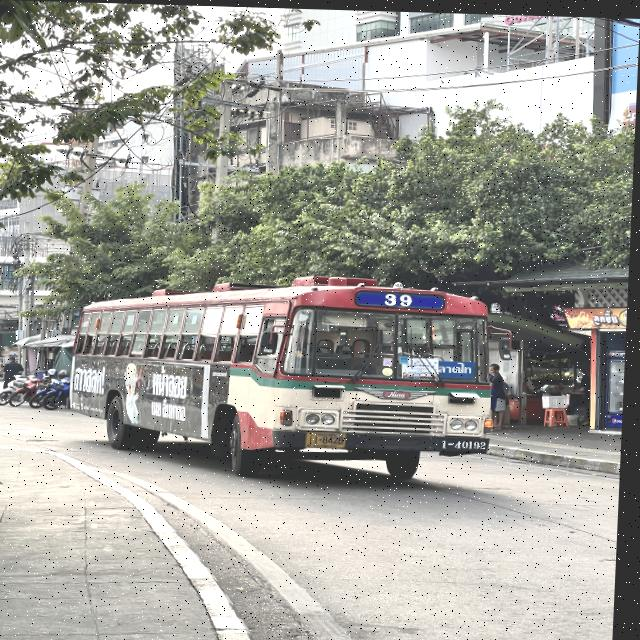BMTA-bus: (70, 268, 505, 484)
Bus-Line-Number: (383, 289, 419, 305)
Destination-Sign-Normal: (441, 357, 478, 378)
